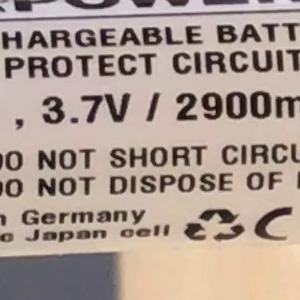3.7V: (32, 83, 138, 134)
